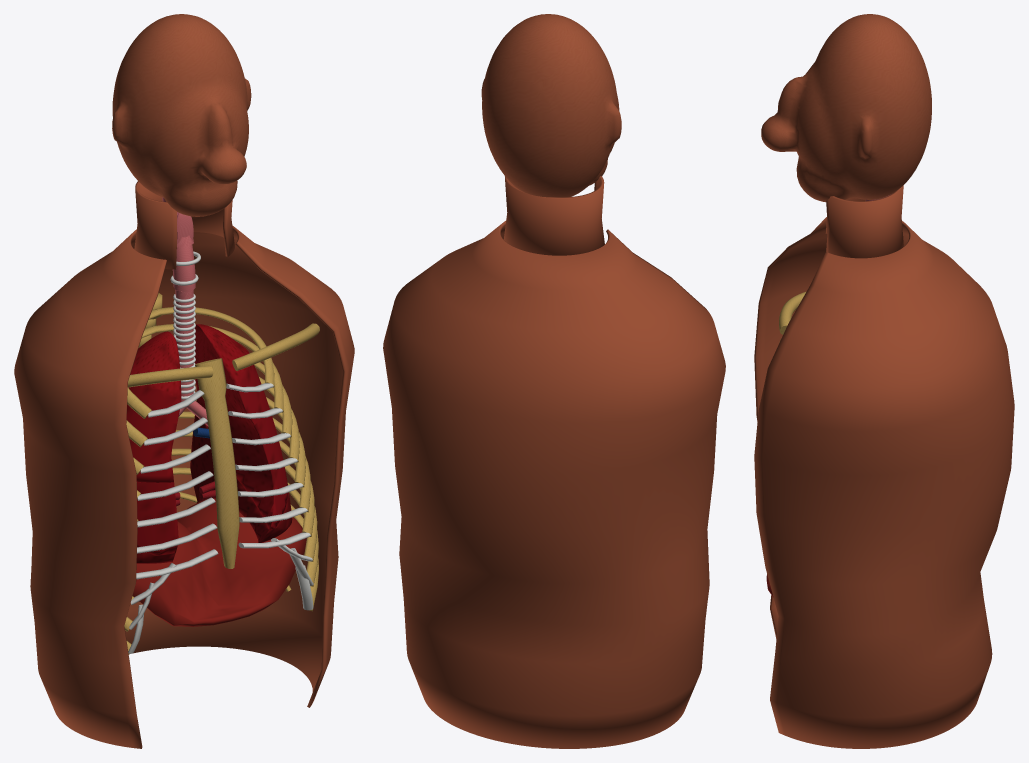
Rendered from respiratory-T_OZSV0w.glb.
3 views of the same model, side by side, from view 1: azimuth 30°, elevation 25°; view 2: azimuth 150°, elevation 25°; view 3: azimuth 270°, elevation 25° (orthographic).
Parts seen in each view (by area): view 1: body, ribcage, lungs, diaphragm, airway; view 2: body; view 3: body, ribcage.
Part boxes in pixels (box(x1,y1,x2,y2)): body: box(14, 14, 354, 748); ribcage: box(124, 307, 319, 654); lungs: box(126, 324, 292, 563); diaphragm: box(132, 498, 306, 626); airway: box(162, 197, 215, 506); body: box(383, 14, 725, 748); body: box(754, 14, 1014, 748); ribcage: box(779, 292, 805, 342).
Bounding box in the file's own units: 2.19 × 4.63 × 1.62.
Materials: 14 (14 with a texture image).
